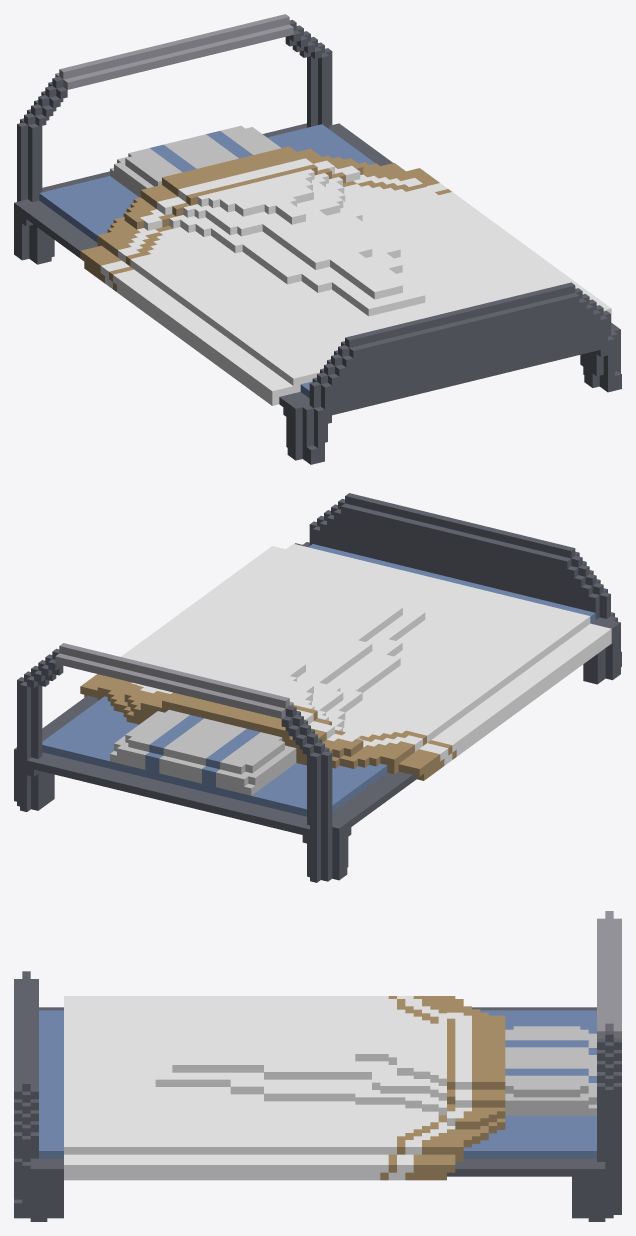
File: Bed.fbx
3 views of the same model, one above another, from view 1: azimuth 30°, elevation 25°; view 2: azimuth 150°, elevation 25°; view 3: azimuth 270°, elevation 25° (orthographic). The views are drawn at different scales.
Parts seen in each view (by area): view 1: Bed; view 2: Bed; view 3: Bed.
Boxes of the visible parts, left/top/right/bottom form: Bed: left=14, top=14, right=621, bottom=464; Bed: left=14, top=493, right=621, bottom=882; Bed: left=14, top=911, right=621, bottom=1221.
Bounding box in the file's own units: 300 × 144 × 456.
